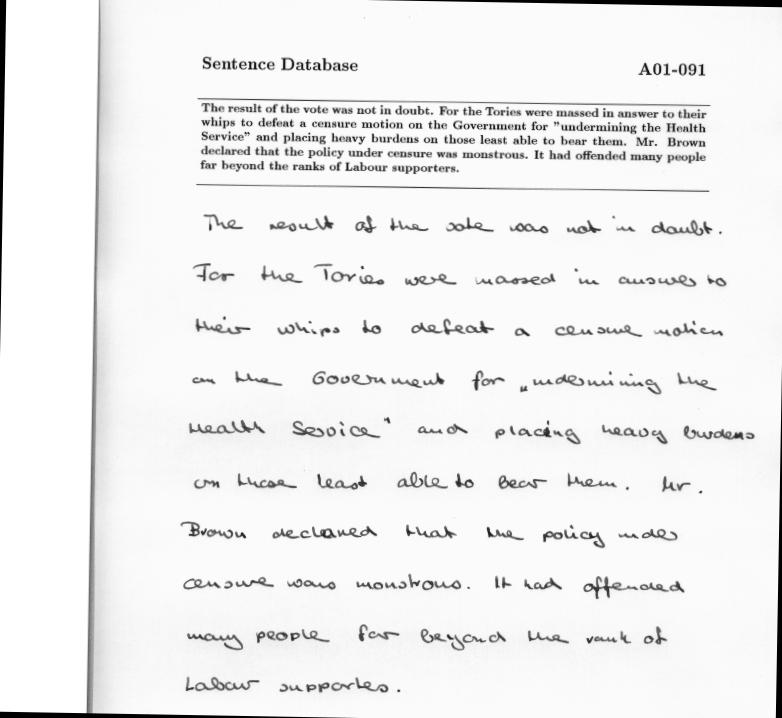text: (179, 612, 673, 662), (185, 409, 760, 448), (187, 460, 708, 503), (189, 256, 732, 297), (200, 202, 726, 244), (188, 307, 730, 347), (187, 358, 723, 397), (177, 564, 688, 604), (174, 513, 681, 553), (196, 110, 709, 140), (197, 96, 710, 125), (196, 138, 709, 167), (196, 125, 710, 152), (178, 668, 405, 698), (199, 154, 463, 178), (196, 52, 366, 74), (632, 58, 710, 80)
